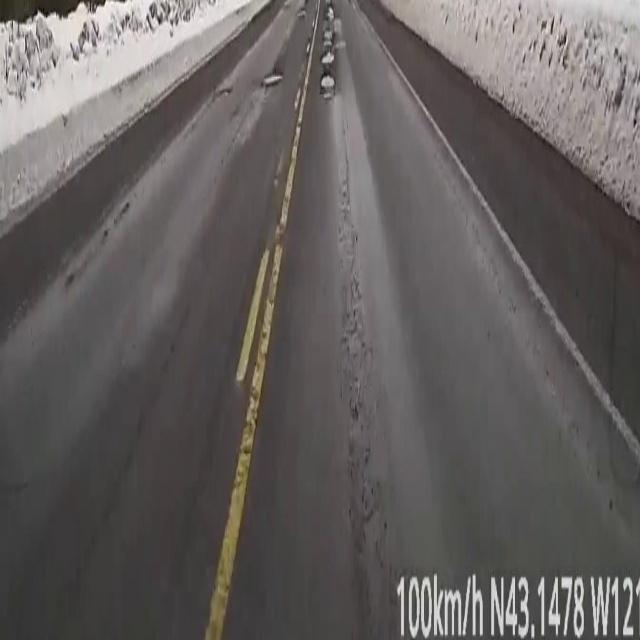pothole: (320, 0, 345, 103), (262, 70, 282, 90)
